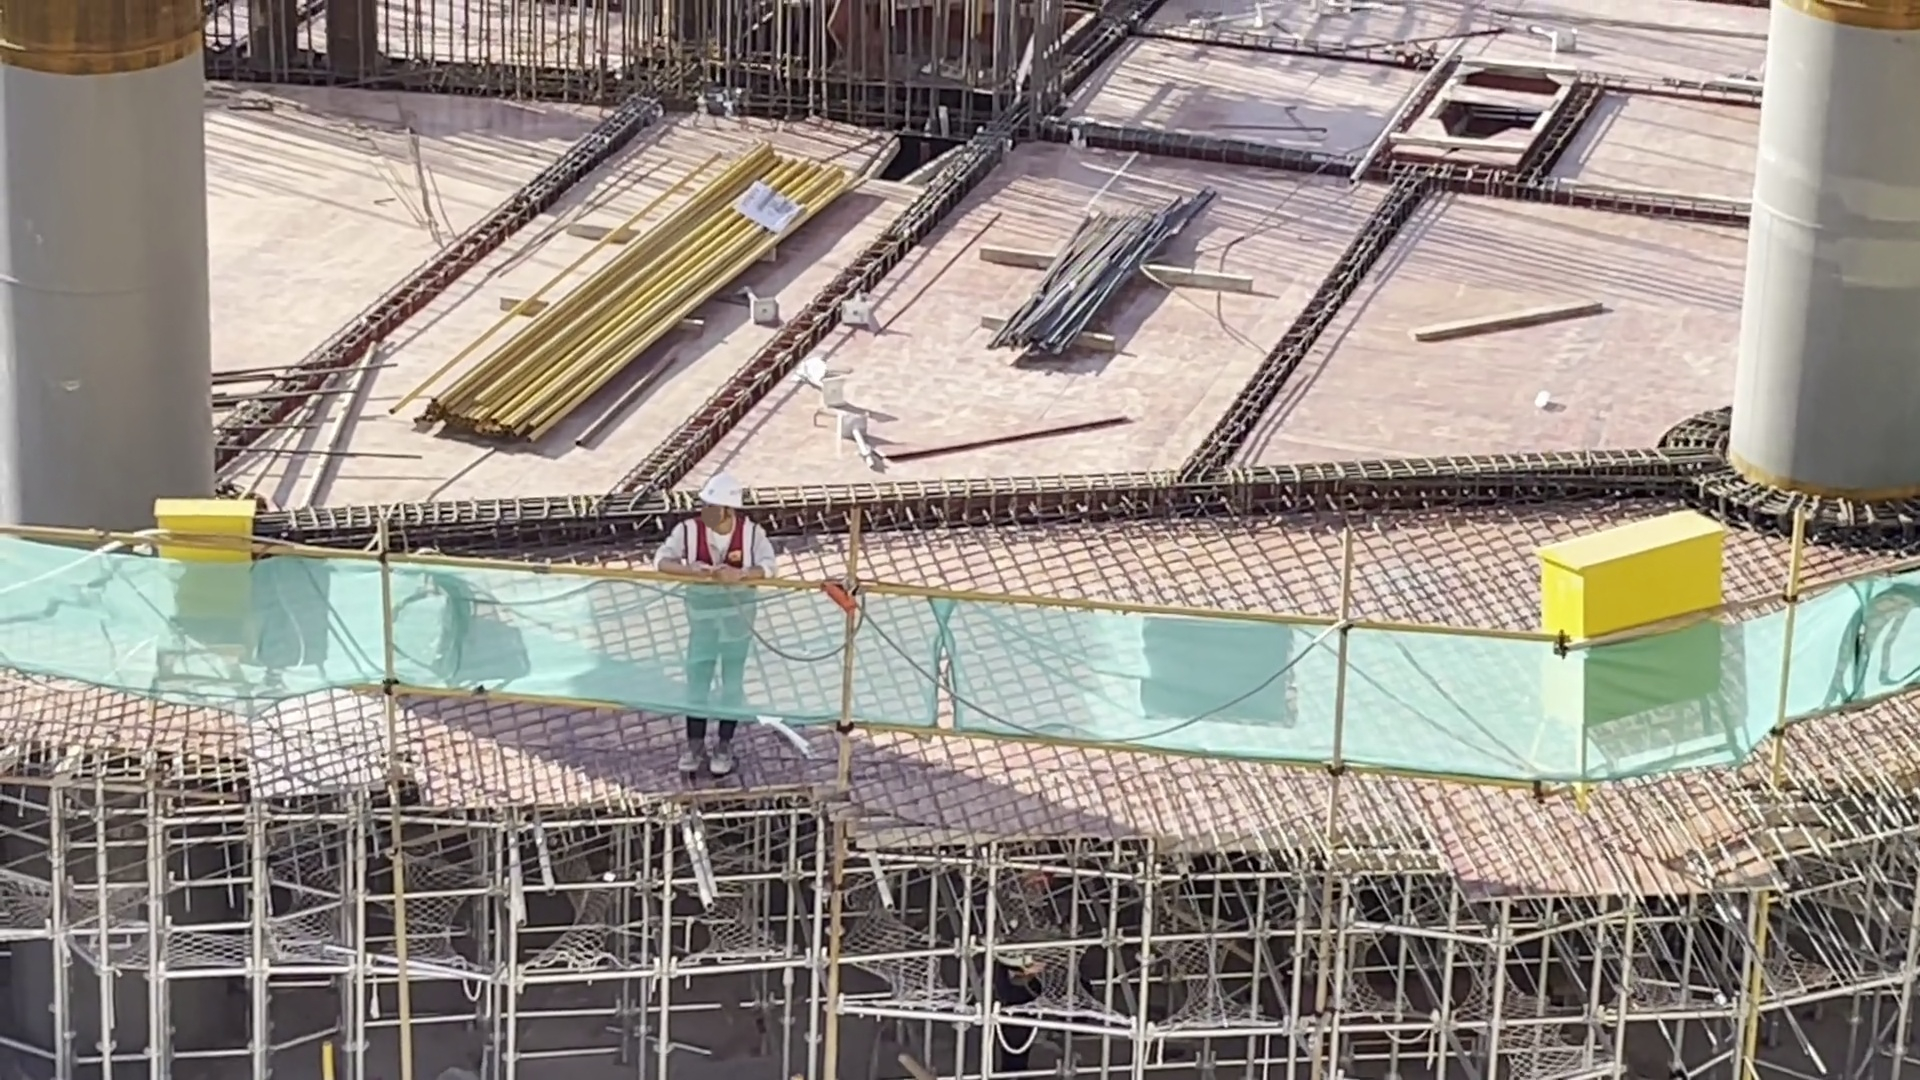ebox: (1536, 502, 1704, 716), (156, 484, 246, 661)
helmet: (701, 479, 743, 524), (1023, 856, 1048, 891)
person: (678, 483, 759, 756), (989, 860, 1066, 1080)
rebar: (1018, 176, 1184, 356)
vest: (693, 519, 751, 641), (993, 884, 1036, 1002)
